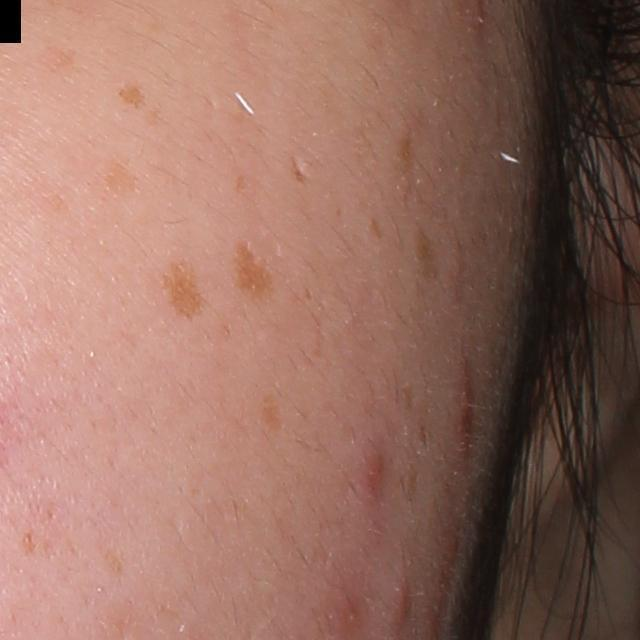atrophic_scar: (291, 156, 312, 188)
melasma: (156, 257, 210, 327), (231, 233, 279, 307), (102, 154, 141, 198), (256, 389, 290, 435), (112, 80, 150, 112), (232, 175, 250, 194)
papule: (453, 352, 478, 450), (358, 443, 389, 498), (385, 576, 412, 635)
